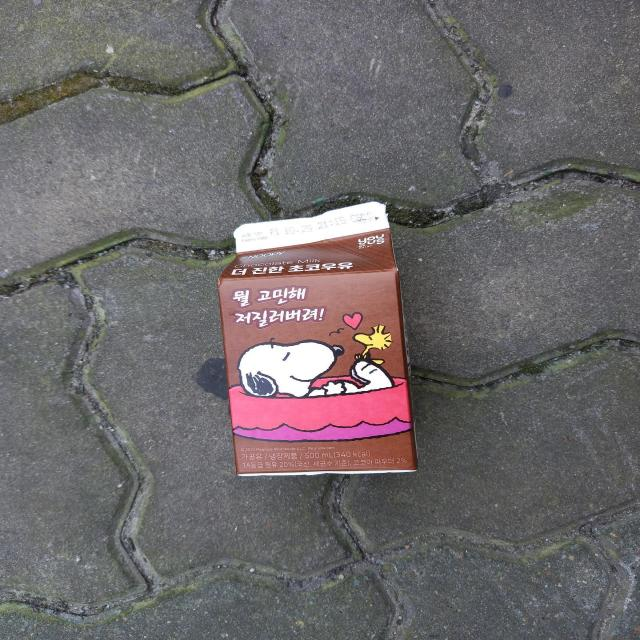paperpack: (218, 202, 417, 476)
